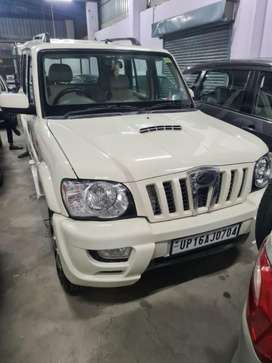UP16AJ0704: (172, 224, 239, 254)
